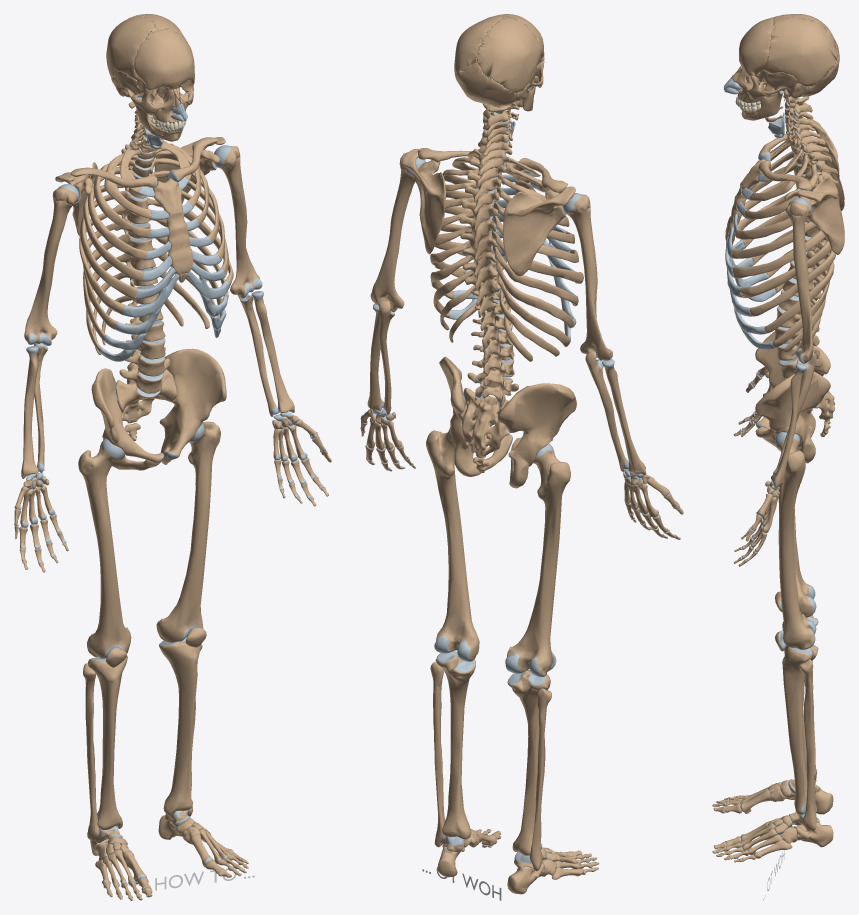
The model's file is skeletal.glb.
The picture shows the model from 3 angles, left to right: view 1: azimuth 30°, elevation 25°; view 2: azimuth 150°, elevation 25°; view 3: azimuth 270°, elevation 25°; orthographic projection. The views are drawn at different scales.
Visible parts, largest first — view 1: Fifth metatarsal bone.l, Incus.l; view 2: Fifth metatarsal bone.l, Incus.l; view 3: Fifth metatarsal bone.l, Incus.l.
Boxes of the visible parts, box(x1,y1,x2,y2) form: Fifth metatarsal bone.l: box(14, 14, 331, 900); Incus.l: box(111, 28, 194, 440); Fifth metatarsal bone.l: box(360, 14, 683, 894); Incus.l: box(455, 14, 544, 472); Fifth metatarsal bone.l: box(712, 14, 844, 862); Incus.l: box(739, 17, 839, 437).
Bounding box in the file's own units: 0.6693 × 1.76 × 0.2501.
Materials: 3 (3 with a texture image).
